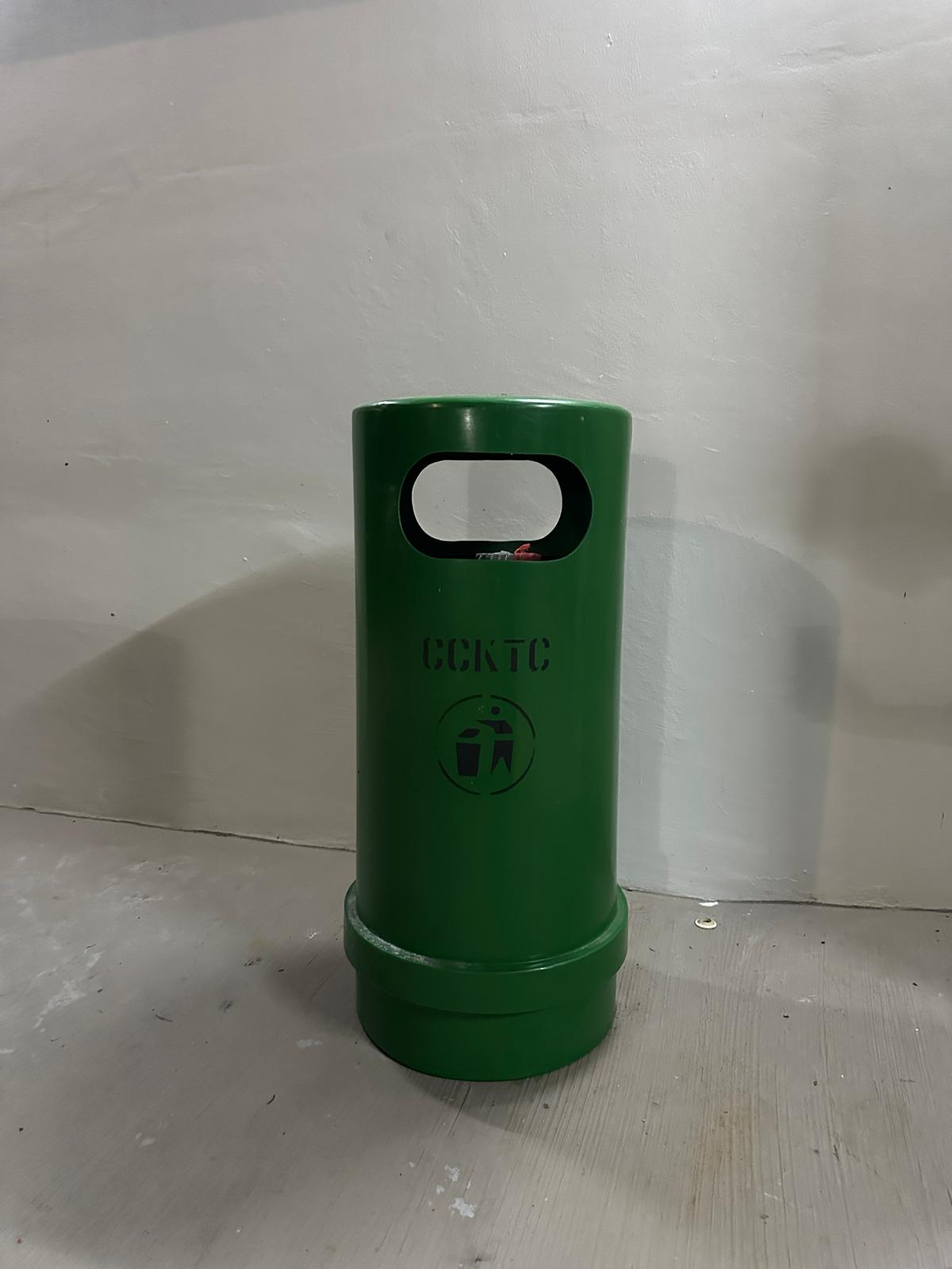bin_empty: (345, 398, 629, 1079)
